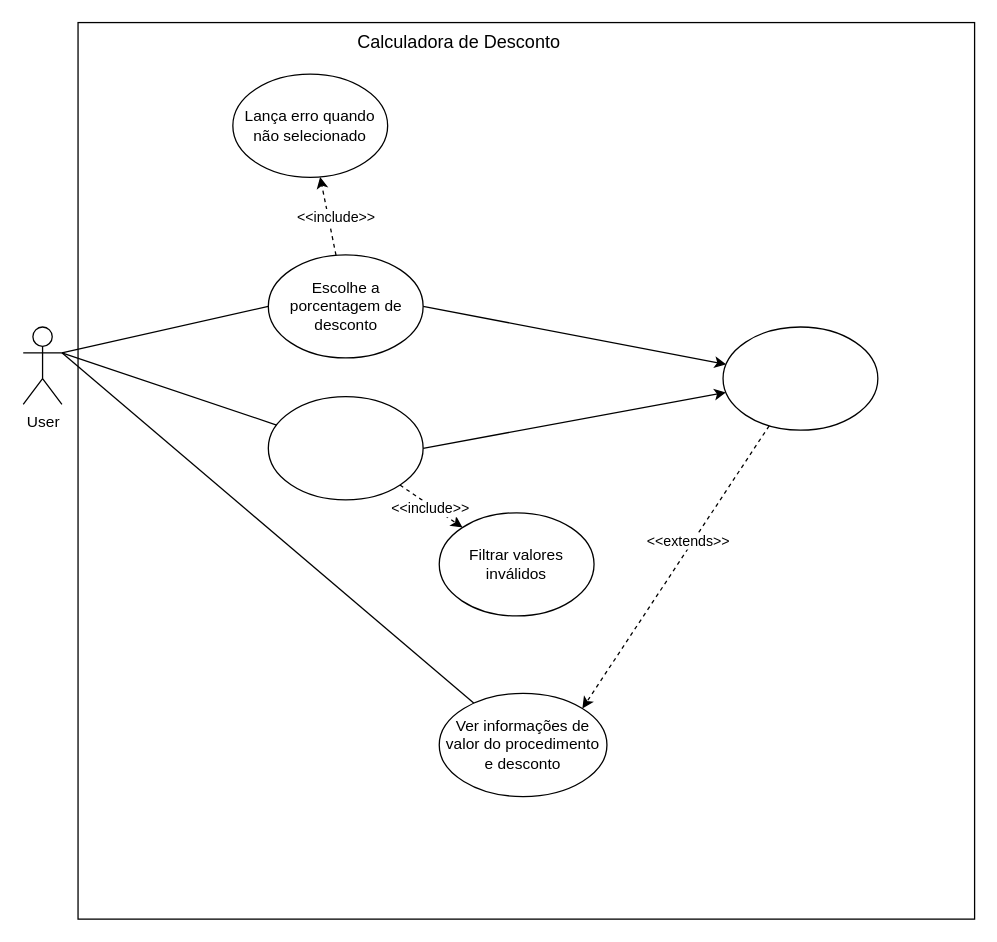
The diagram is 997 pixels wide and 942 high, and some of its shapes have lost their labels. Here are the shapes that lost their labels. From the top down, the centre of each, then its label:
(800,378): Calcular desconto do procedimento
(345,447): Escreve o valor do procedimento
